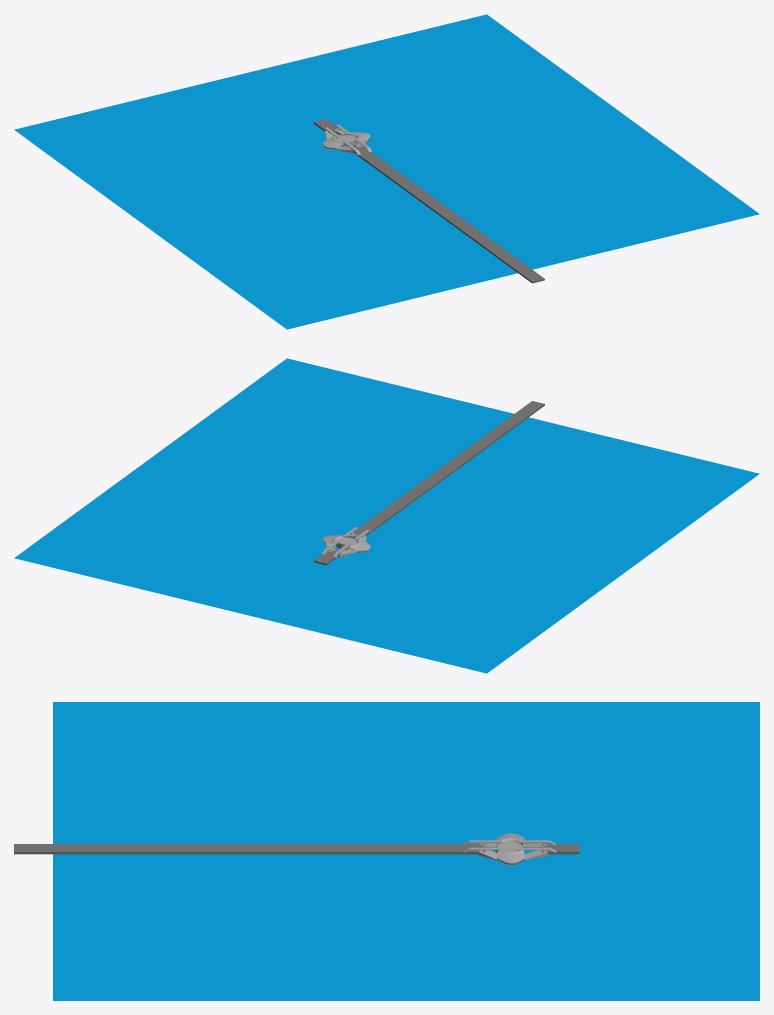
File: bridge_and_the_sea.fbx
The picture shows the model from 3 angles, top to bottom: view 1: azimuth 30°, elevation 25°; view 2: azimuth 150°, elevation 25°; view 3: azimuth 270°, elevation 25°; orthographic projection. The views are drawn at different scales.
Parts seen in each view (by area): view 1: pPlane1, pCube1; view 2: pPlane1, pCube1; view 3: pPlane1, pCube1, pTorus1.
Boxes of the visible parts, x1,y1,x2,y2 form: pPlane1: [14, 14, 759, 329]; pCube1: [350, 145, 544, 283]; pPlane1: [14, 358, 759, 673]; pCube1: [350, 401, 544, 537]; pPlane1: [53, 702, 759, 1000]; pCube1: [14, 844, 485, 854]; pTorus1: [497, 833, 524, 865].
Size of the model in its own units: 150 by 2.62 by 158.
